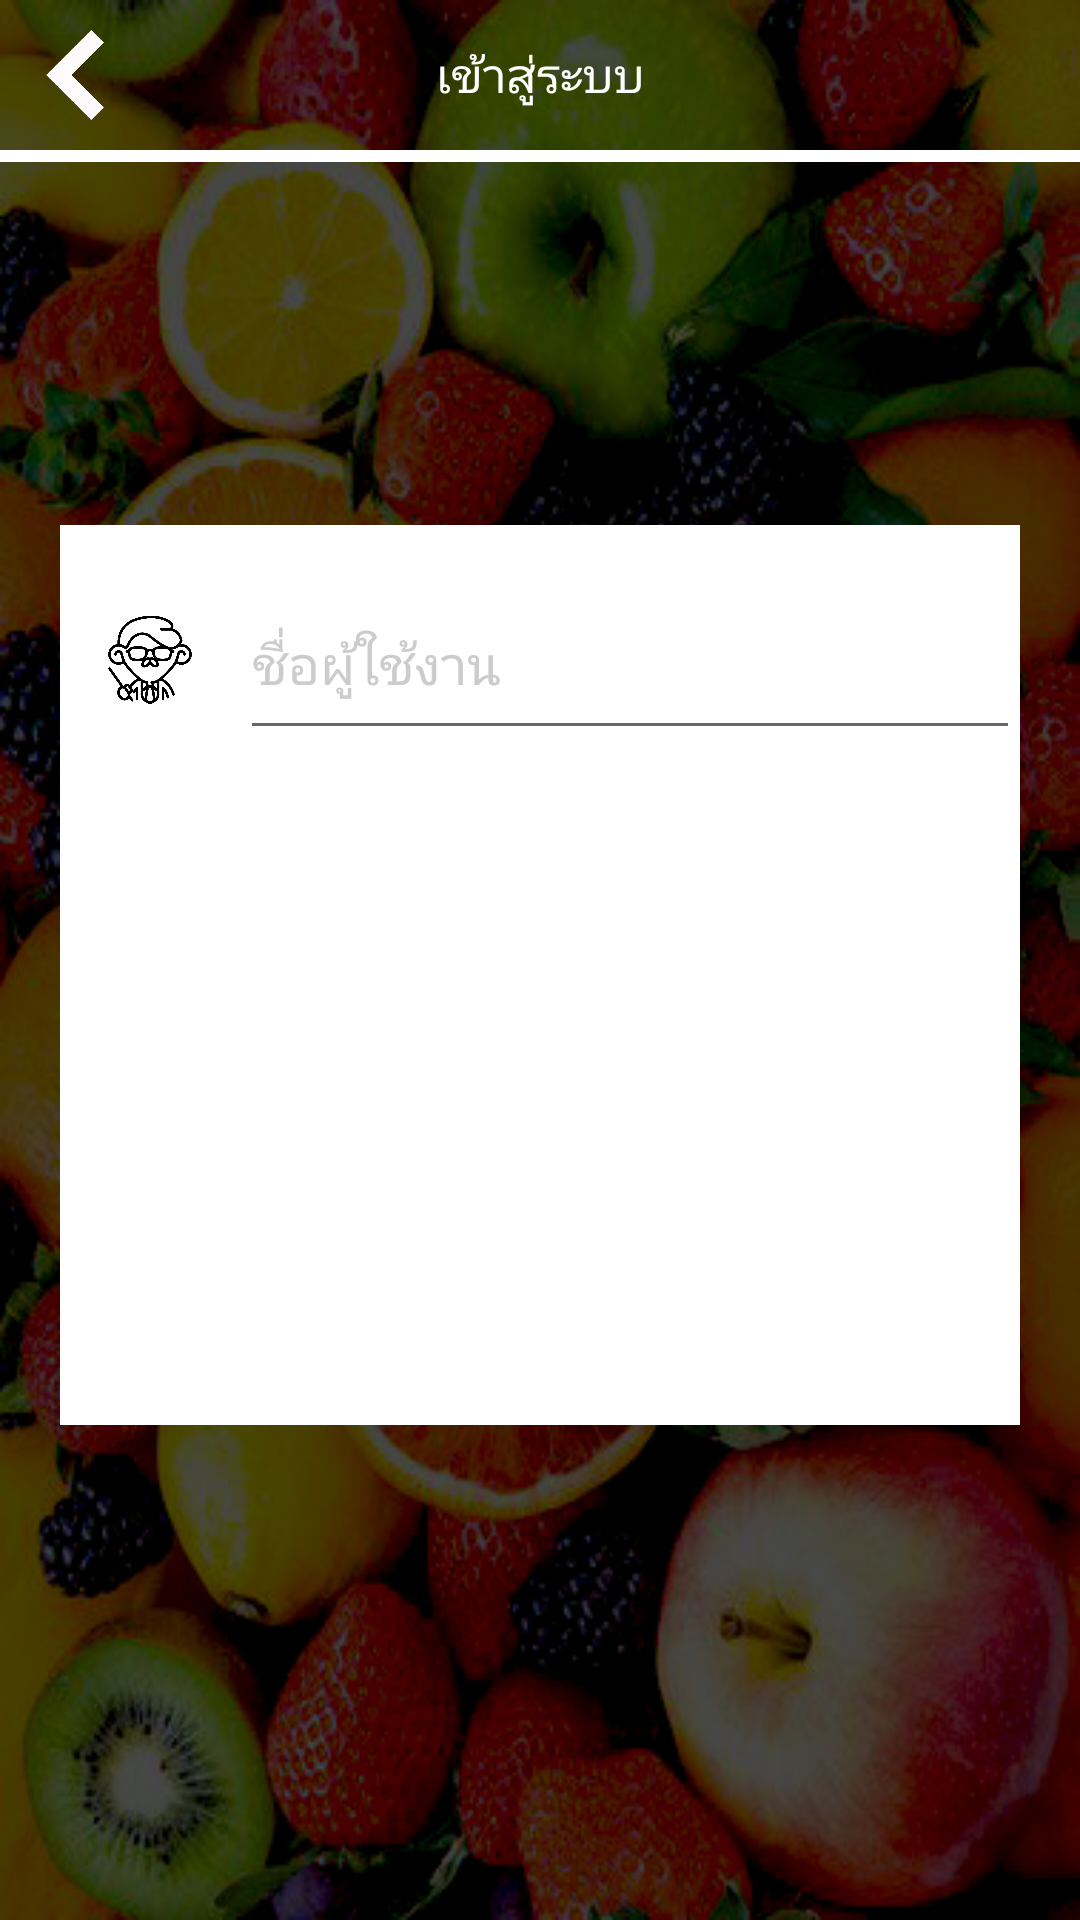

Point at icon controls on the screen. Image size 1080 x 1920, points as point (x, y).
back: point (75, 75)
